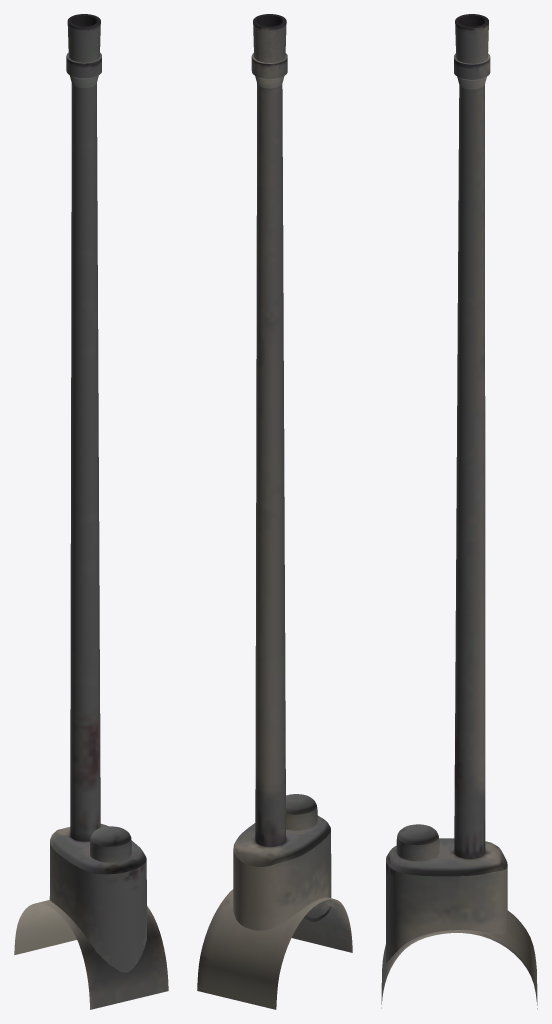
Rendered from Gun_05.glb.
3 renders of one model, left to right at view 1: azimuth 30°, elevation 25°; view 2: azimuth 150°, elevation 25°; view 3: azimuth 270°, elevation 25°, orthographic. The views are drawn at different scales.
Visible parts, largest first — view 1: set_0_group_0; view 2: set_0_group_0; view 3: set_0_group_0.
Part boxes in pixels (box(x1,y1,x2,y2)): set_0_group_0: box(14, 14, 168, 1009); set_0_group_0: box(197, 14, 352, 1009); set_0_group_0: box(381, 14, 537, 1009).
Bounding box in the file's own units: 0.1954 × 2.26 × 0.33.
Materials: 1 (1 with a texture image).
